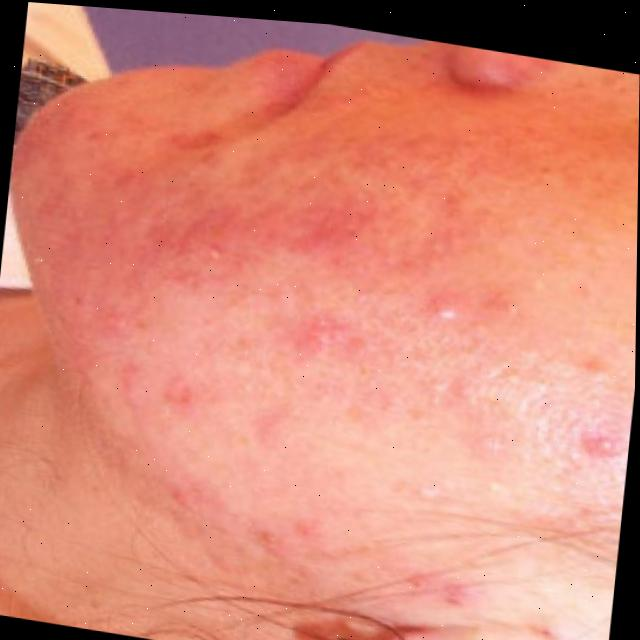Acne: (0, 104, 638, 631)
